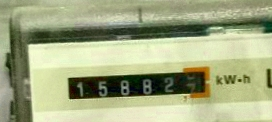1: (75, 80, 85, 98)
2: (163, 76, 174, 93)
5: (96, 80, 108, 97)
7: (185, 81, 196, 94)
8: (119, 78, 130, 96), (142, 78, 152, 94)
screen: (61, 64, 216, 105)
